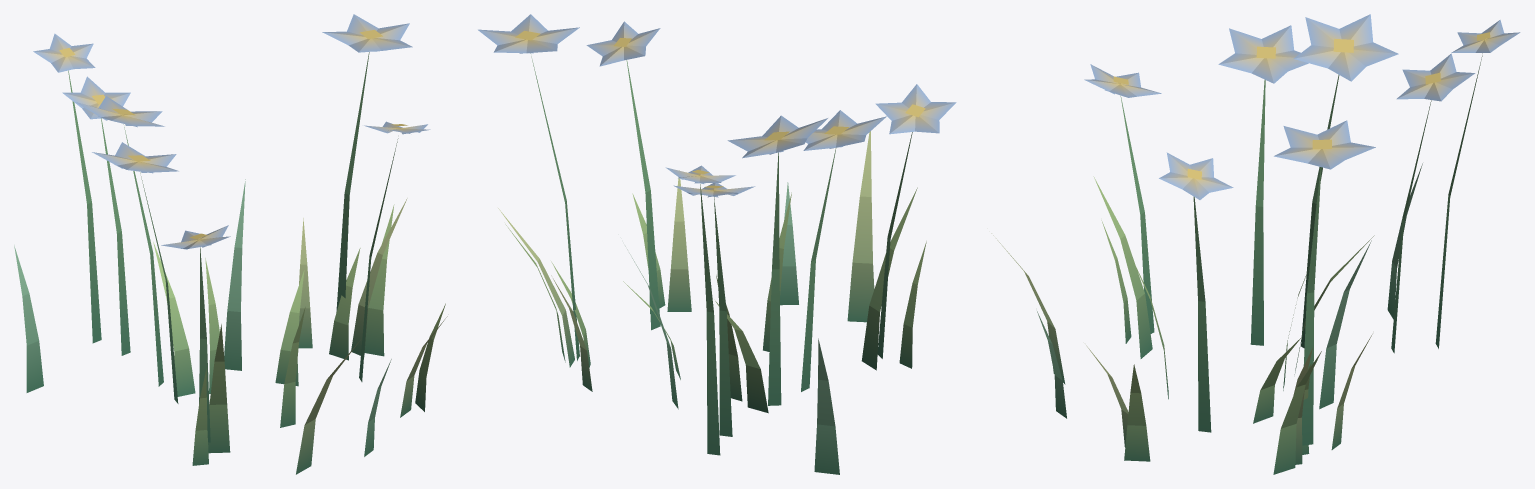
The model's file is SM_GR_Flowers_Blue.fbx.
3 views of the same model, side by side, from view 1: azimuth 30°, elevation 25°; view 2: azimuth 150°, elevation 25°; view 3: azimuth 270°, elevation 25° (orthographic). The views are drawn at different scales.
Parts seen in each view (by area): view 1: SM_GR_Flowers_Blue; view 2: SM_GR_Flowers_Blue; view 3: SM_GR_Flowers_Blue.
Boxes of the visible parts, x1=… form: SM_GR_Flowers_Blue: x1=14, y1=14, x2=447, y2=474; SM_GR_Flowers_Blue: x1=478, y1=14, x2=956, y2=474; SM_GR_Flowers_Blue: x1=991, y1=14, x2=1520, y2=474.
Size of the model in its own units: 60.68 by 49.75 by 71.2.
